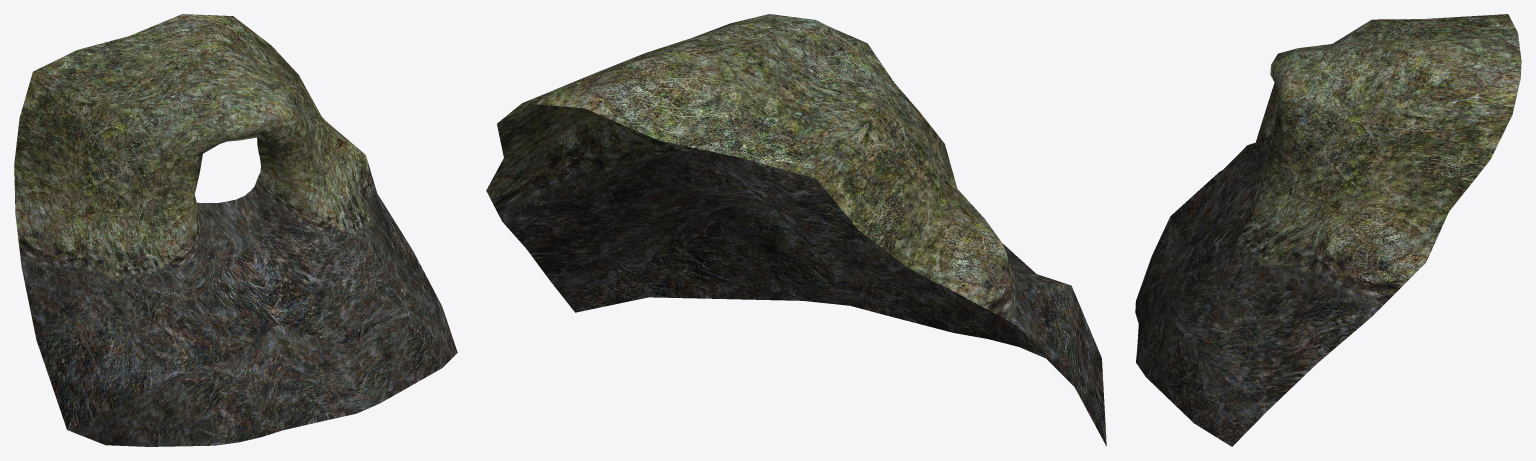
The model's file is thm_all_cave_s01_damprock_mirror_r0_mesh_l2.fbx.
The picture shows the model from 3 angles, left to right: view 1: azimuth 30°, elevation 25°; view 2: azimuth 150°, elevation 25°; view 3: azimuth 270°, elevation 25°; orthographic projection. The views are drawn at different scales.
Parts seen in each view (by area): view 1: mesh_node; view 2: mesh_node; view 3: mesh_node.
Part boxes in pixels (x1,y1,x2,y2): mesh_node: [14, 14, 457, 446]; mesh_node: [486, 14, 1106, 445]; mesh_node: [1135, 14, 1521, 446].
Bounding box in the file's own units: 48.32 × 34.16 × 39.34.
